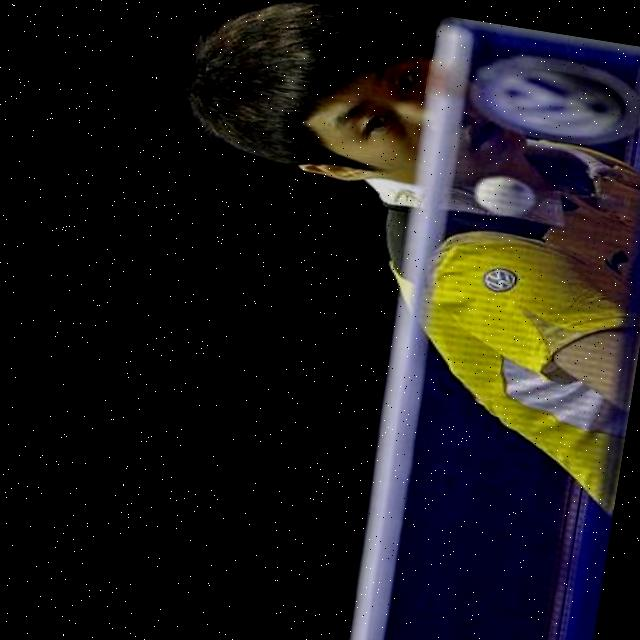ping-pong-ball: (468, 170, 536, 222)
